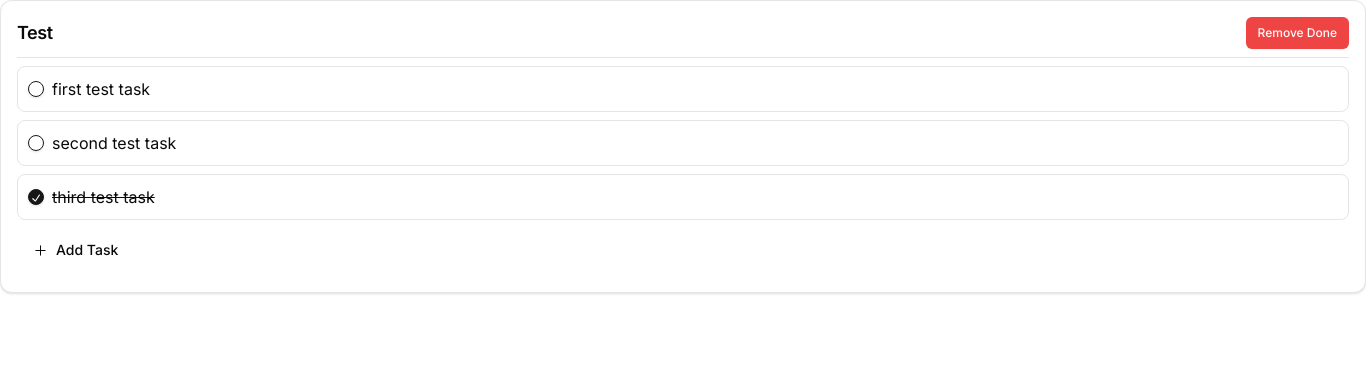
Checklist › addTask › should hide add task button if add task form is seen
The image size is (1366, 373).
Click the button with test id "add-task-button" at [87, 250], box [17,232,1349,268]
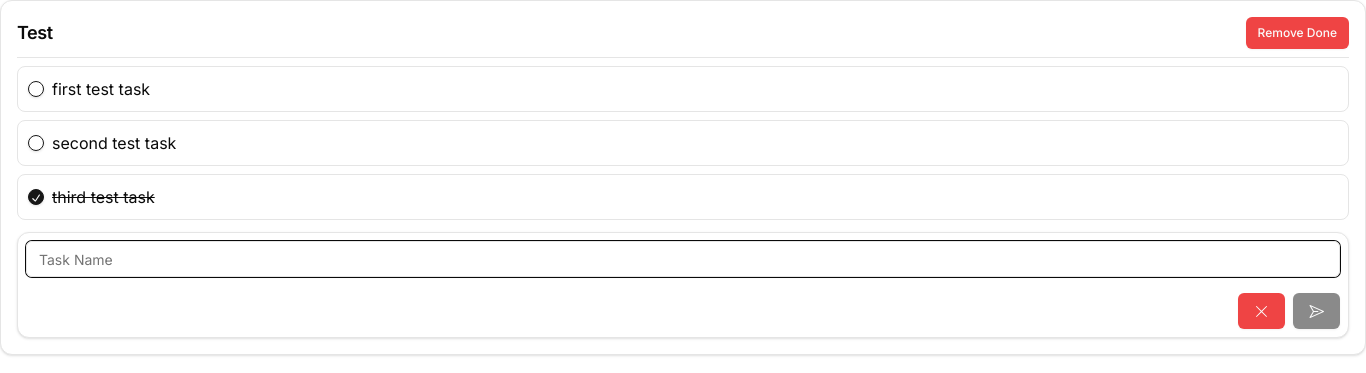
Check: the form with test id "task-form" is shown, box [17,232,1349,338]
Check: the button with test id "add-task-button" is gone
